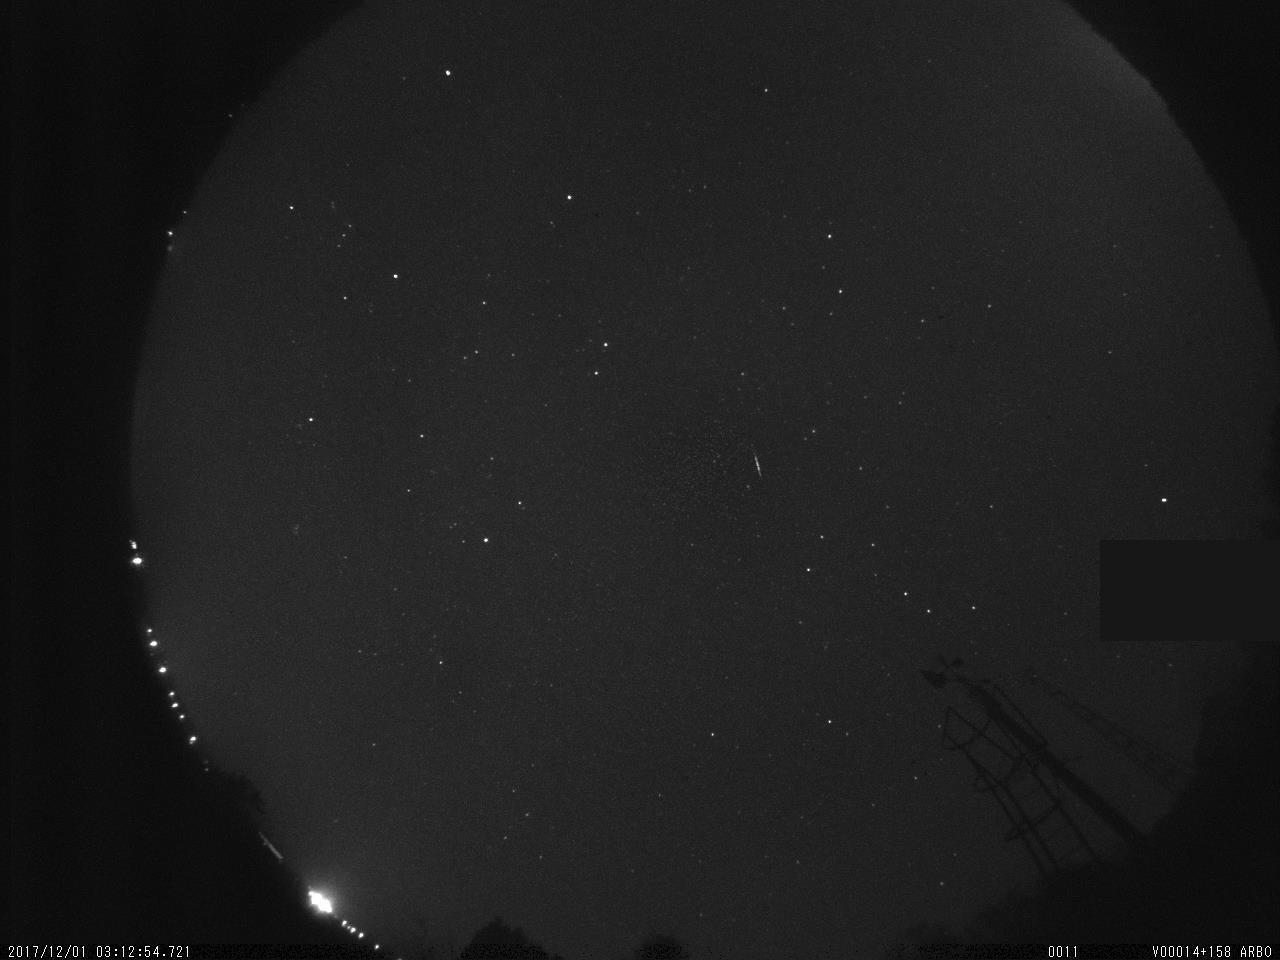meteor: (739, 447, 774, 484)
